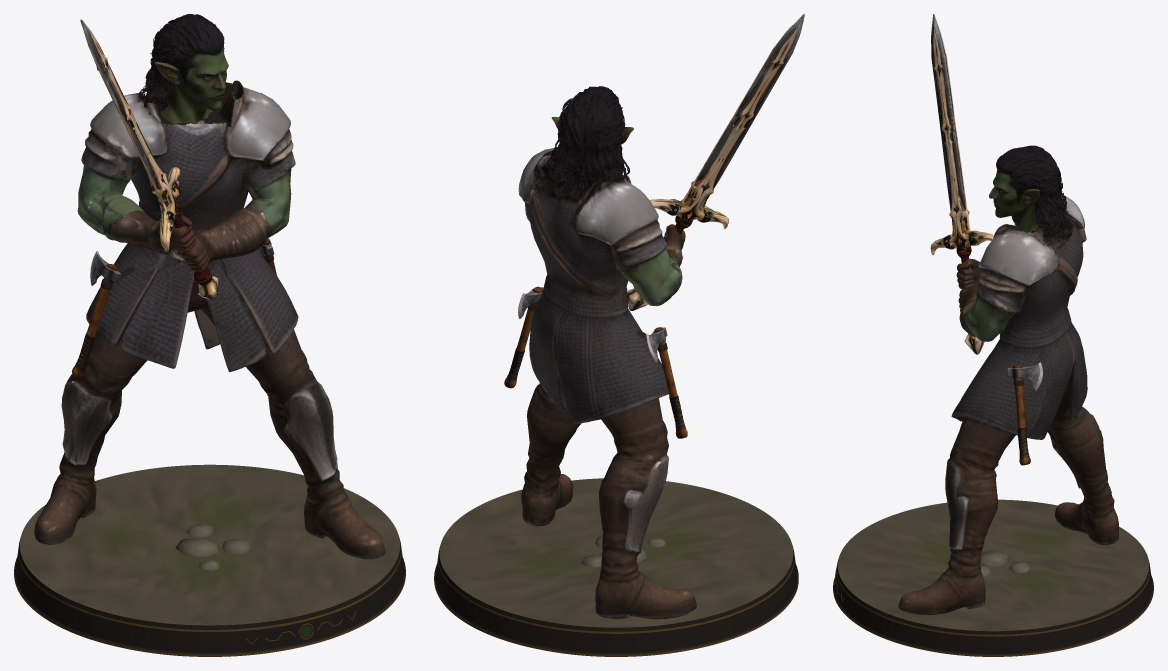
The model's file is druk-light-0af485ac49a2.glb.
3 views of the same model, side by side, from view 1: azimuth 30°, elevation 25°; view 2: azimuth 150°, elevation 25°; view 3: azimuth 270°, elevation 25° (orthographic). The views are drawn at different scales.
Visible parts, largest first — view 1: DrukV9_Dense_Body_REVIEW_CANDIDATE, Druk_Base_Earthy_Stone_Moss_Top, Druk_Base_Rim_3, Druk_Natural_Multiview_Head, DrukV7_Approved_BoneSword, Druk_Base_Rim_5, DrukV9_Right_Hip_Handaxe, Druk_Base_Rim_2, Druk_Base_Brass_4, Druk_Base_Brass_1, DrukV9_Recessed_Front_Neck_Closure, DrukV9_Lowered_Left_Hand (+2 smaller); view 2: DrukV9_Dense_Body_REVIEW_CANDIDATE, Druk_Base_Earthy_Stone_Moss_Top, Druk_Base_Rim_3, Druk_Natural_Multiview_Head, DrukV7_Approved_BoneSword, DrukV9_Pinned_Rear_Neck_Repair, Druk_Base_Rim_5, DrukV9_Right_Hip_Handaxe, DrukV9_Left_Hip_Handaxe, Druk_Base_Rim_2, Druk_Base_Brass_4, Druk_Base_Brass_1; view 3: DrukV9_Dense_Body_REVIEW_CANDIDATE, Druk_Base_Earthy_Stone_Moss_Top, Druk_Base_Rim_3, Druk_Natural_Multiview_Head, DrukV7_Approved_BoneSword, Druk_Base_Rim_5, DrukV9_Left_Hip_Handaxe, DrukV9_Pinned_Rear_Neck_Repair, Druk_Base_Rim_2, Druk_Base_Brass_4, Druk_Base_Brass_1, DrukV9_Lowered_Right_Hand.
Boxes of the visible parts, x1,y1,x2,y2 form: DrukV9_Dense_Body_REVIEW_CANDIDATE: (34,81,385,559); Druk_Base_Earthy_Stone_Moss_Top: (19,464,400,625); Druk_Base_Rim_3: (15,551,404,652); Druk_Natural_Multiview_Head: (138,14,228,124); DrukV7_Approved_BoneSword: (80,19,218,299); Druk_Base_Rim_5: (18,539,401,629); DrukV9_Right_Hip_Handaxe: (72,251,120,378); Druk_Base_Rim_2: (14,557,405,654); Druk_Base_Brass_4: (18,548,401,631); Druk_Base_Brass_1: (14,575,405,656); DrukV9_Recessed_Front_Neck_Closure: (138,80,243,126); DrukV9_Lowered_Left_Hand: (178,233,210,271); DrukV9_Dense_Body_REVIEW_CANDIDATE: (518,147,696,619); Druk_Base_Earthy_Stone_Moss_Top: (439,478,793,627); Druk_Base_Rim_3: (435,556,797,652); Druk_Natural_Multiview_Head: (548,86,633,191); DrukV7_Approved_BoneSword: (627,14,804,310); DrukV9_Pinned_Rear_Neck_Repair: (529,162,637,223); Druk_Base_Rim_5: (438,546,794,631); DrukV9_Right_Hip_Handaxe: (646,327,687,438); DrukV9_Left_Hip_Handaxe: (504,286,543,388); Druk_Base_Rim_2: (434,564,798,654); Druk_Base_Brass_4: (438,554,794,633); Druk_Base_Brass_1: (434,579,798,656); DrukV9_Dense_Body_REVIEW_CANDIDATE: (898,214,1118,614); Druk_Base_Earthy_Stone_Moss_Top: (837,499,1149,631); Druk_Base_Rim_3: (834,569,1152,653); Druk_Natural_Multiview_Head: (989,145,1068,232); DrukV7_Approved_BoneSword: (930,14,994,354); Druk_Base_Rim_5: (837,560,1149,634); DrukV9_Left_Hip_Handaxe: (1007,362,1042,465); DrukV9_Pinned_Rear_Neck_Repair: (1043,195,1083,256); Druk_Base_Rim_2: (833,576,1153,654); Druk_Base_Brass_4: (836,567,1150,636); Druk_Base_Brass_1: (833,590,1153,656); DrukV9_Lowered_Right_Hand: (956,258,980,289).
Size of the model in its own units: 1.36 by 2.39 by 1.36.
Materials: 24 (10 with a texture image).
